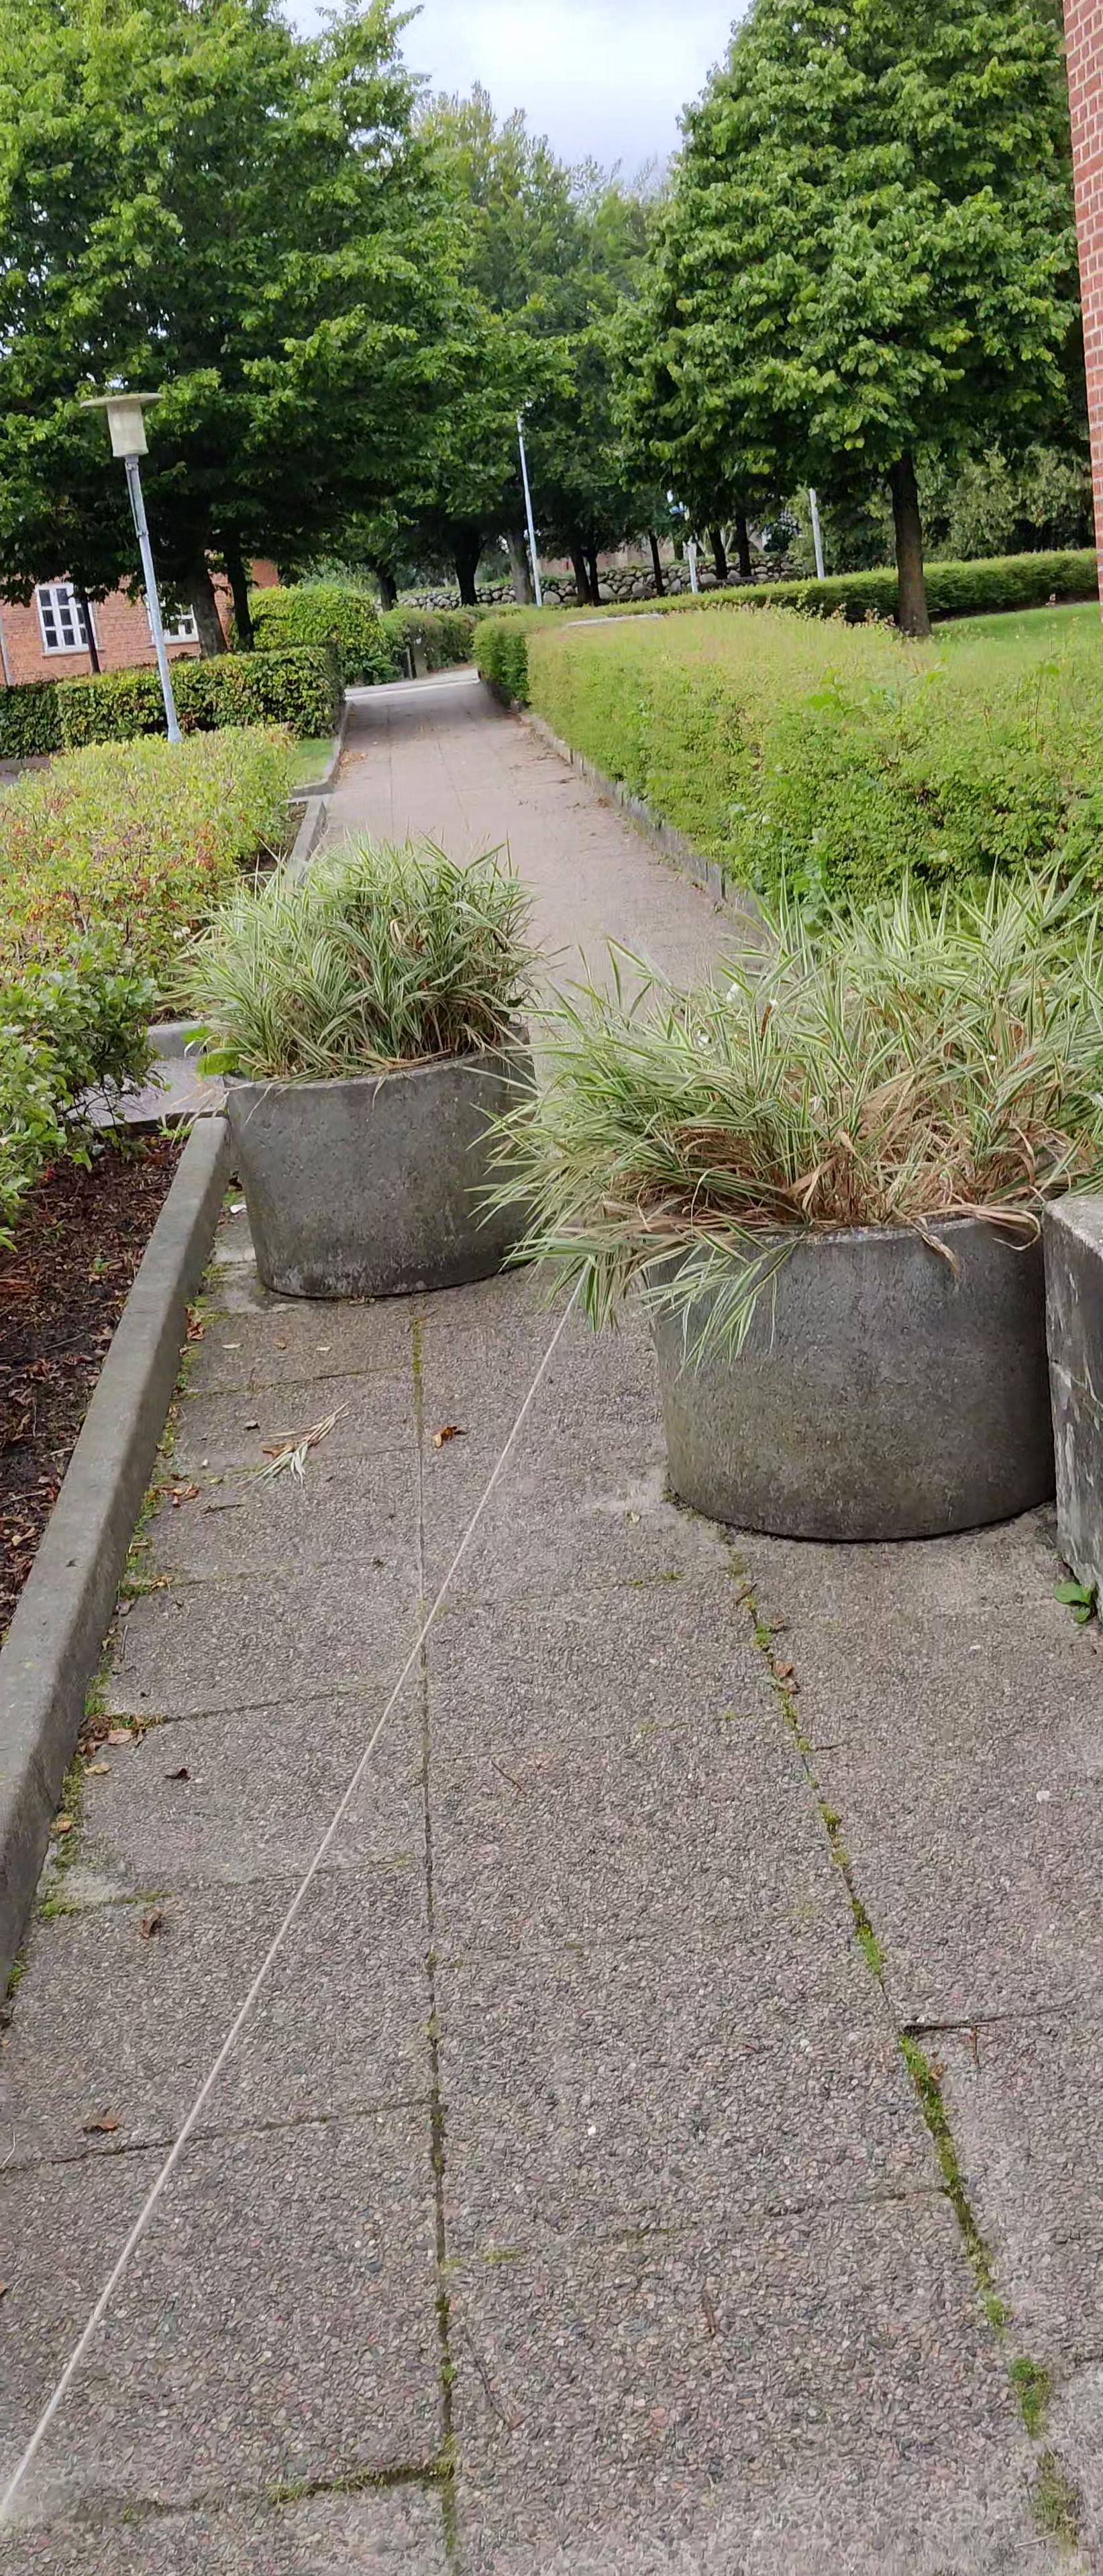Dog: (692, 968, 750, 1046)
